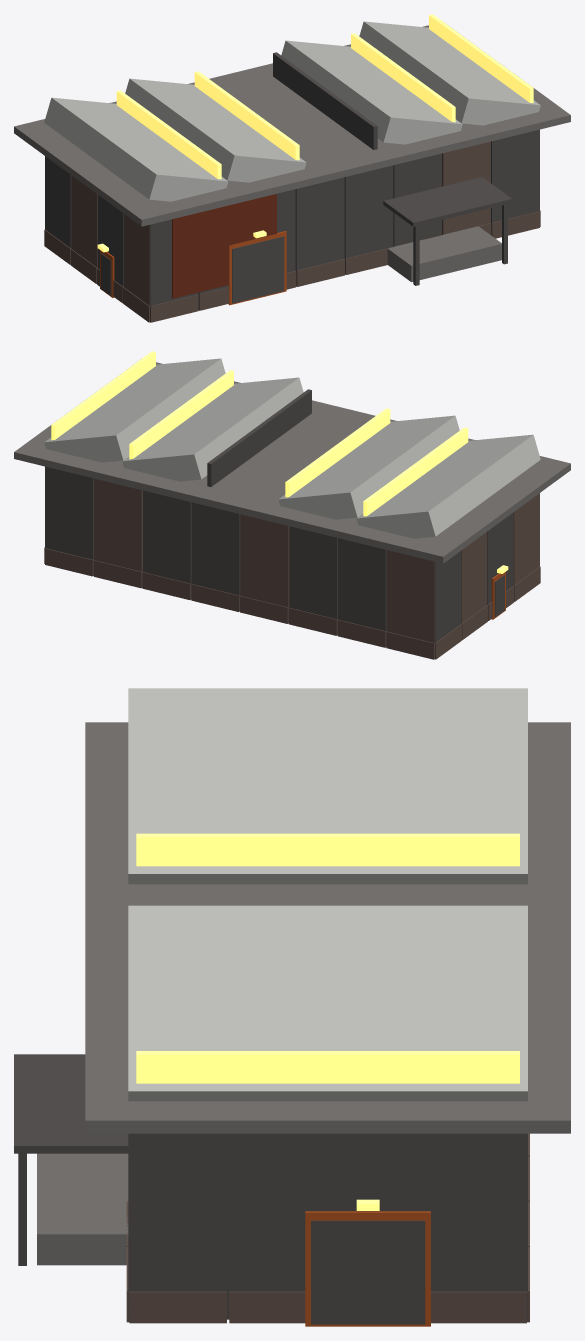
Rendered from B_hall_a.glb.
3 renders of one model, top to bottom at view 1: azimuth 30°, elevation 25°; view 2: azimuth 150°, elevation 25°; view 3: azimuth 270°, elevation 25°, orthographic. The views are drawn at different scales.
Visible parts, largest first — view 1: Cube.089, Cube.090, Cube.097, Cube.092, Cube.095, Cube.072, Cube.009, Cube.012, Cube.084, Cube.021, Cube.085, Cube.076 (+24 smaller); view 2: Cube.089, Cube.090, Cube.097, Cube.092, Cube.095, Cube.036, Cube.033, Cube.042, Cube.039, Cube.030, Cube.045, Cube.024 (+22 smaller); view 3: Cube.089, Cube.092, Cube.097, Cube.090, Cube.095, Cube.060, Cube.069, Cube.063, Cube.093, Cube.098, Cube.082, Cube.084 (+8 smaller).
Part boxes in pixels (left/top/right/bottom): Cube.089: left=14, top=25, right=570, bottom=226; Cube.090: left=44, top=97, right=228, bottom=201; Cube.097: left=359, top=21, right=540, bottom=125; Cube.092: left=125, top=78, right=306, bottom=182; Cube.095: left=281, top=40, right=462, bottom=144; Cube.072: left=172, top=194, right=276, bottom=298; Cube.009: left=295, top=177, right=344, bottom=270; Cube.012: left=344, top=165, right=393, bottom=258; Cube.084: left=387, top=226, right=501, bottom=282; Cube.021: left=491, top=129, right=539, bottom=235; Cube.085: left=383, top=177, right=512, bottom=226; Cube.076: left=232, top=236, right=284, bottom=303; Cube.089: left=14, top=362, right=570, bottom=563; Cube.090: left=356, top=434, right=540, bottom=538; Cube.097: left=44, top=358, right=225, bottom=462; Cube.092: left=278, top=415, right=459, bottom=519; Cube.095: left=122, top=377, right=303, bottom=481; Cube.036: left=191, top=502, right=240, bottom=611; Cube.033: left=240, top=514, right=289, bottom=621; Cube.042: left=94, top=478, right=142, bottom=587; Cube.039: left=143, top=490, right=191, bottom=599; Cube.030: left=289, top=526, right=337, bottom=619; Cube.045: left=45, top=466, right=93, bottom=559; Cube.024: left=386, top=550, right=434, bottom=642; Cube.089: left=85, top=722, right=570, bottom=1133; Cube.092: left=128, top=760, right=527, bottom=884; Cube.097: left=128, top=978, right=527, bottom=1101; Cube.090: left=128, top=688, right=527, bottom=760; Cube.095: left=128, top=905, right=527, bottom=977; Cube.060: left=129, top=1133, right=226, bottom=1291; Cube.069: left=429, top=1133, right=526, bottom=1291; Cube.063: left=229, top=1133, right=326, bottom=1291; Cube.093: left=136, top=833, right=519, bottom=866; Cube.098: left=136, top=1051, right=519, bottom=1083; Cube.082: left=311, top=1220, right=425, bottom=1324; Cube.084: left=37, top=1153, right=128, bottom=1265.
Size of the model in its own units: 33 by 10.86 by 19.5.
